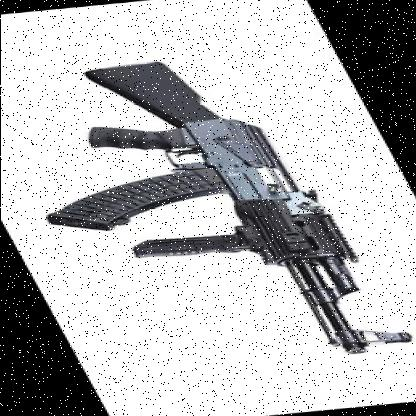rifle: (0, 50, 411, 384)
